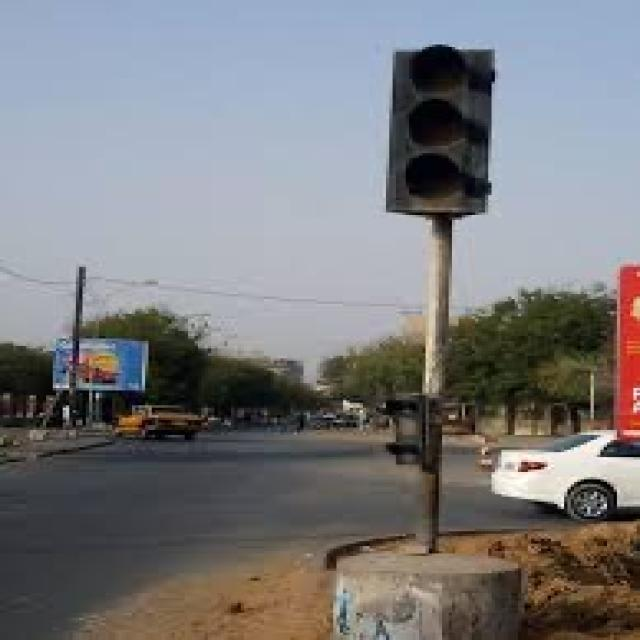feu: (388, 52, 492, 214), (388, 398, 423, 465)
particulier: (493, 432, 640, 521)
taxi: (119, 406, 208, 441)
